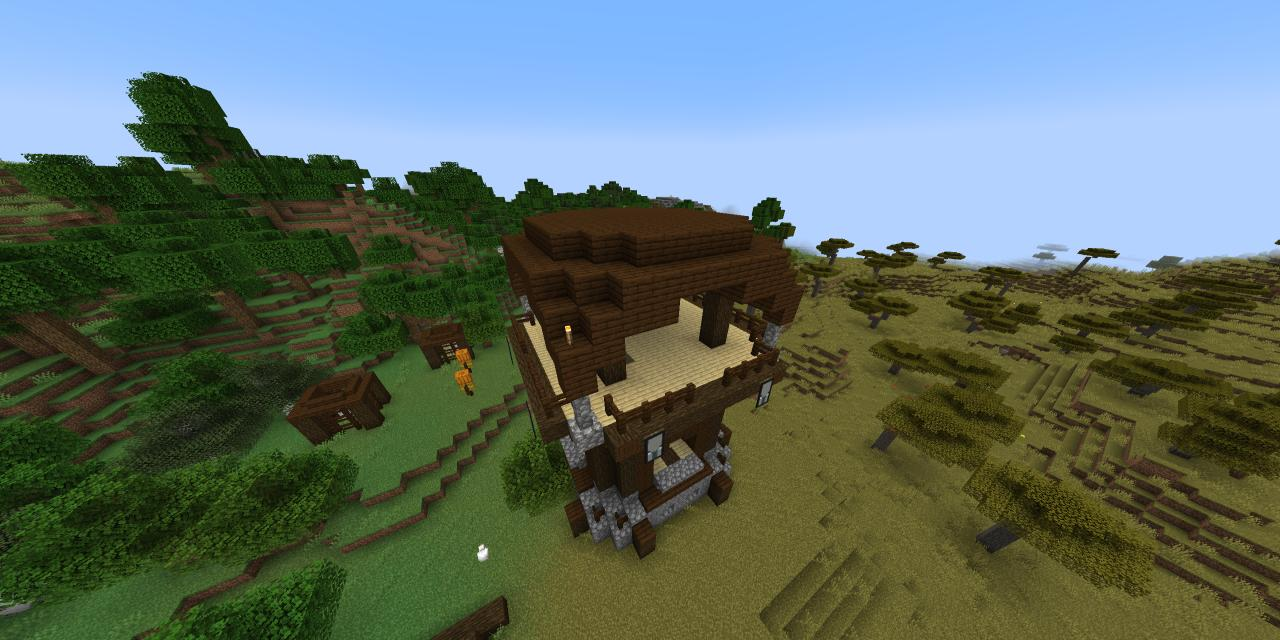pillager outpost: (497, 187, 818, 567)
